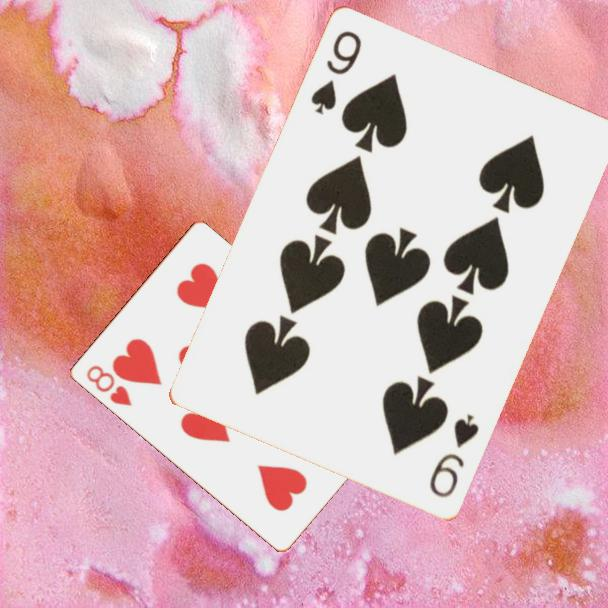h08: (82, 362, 134, 409)
s09: (307, 27, 365, 118), (426, 411, 482, 502)
